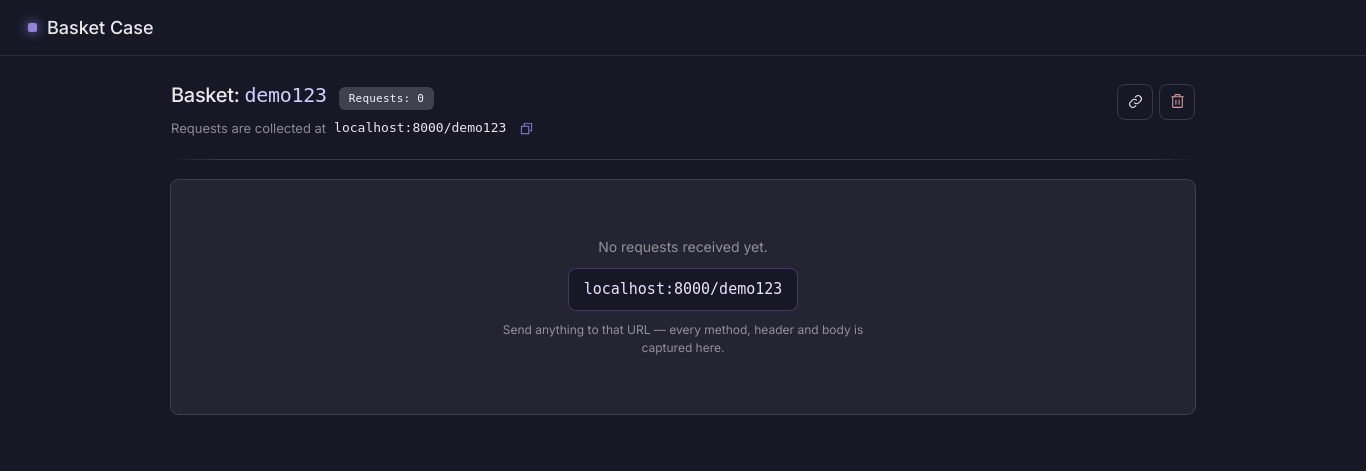
it: App basket ownership flows › keeps ownership data when deletion fails
The image size is (1366, 471).
Click the button named "Delete basket": [1177, 102] box [1159,84,1195,120]
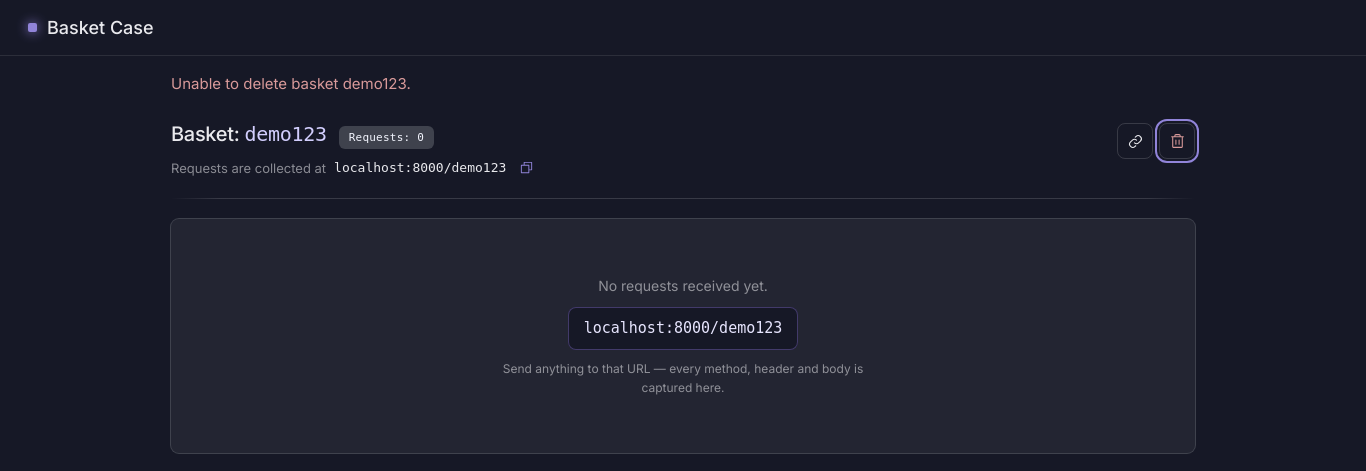
Expected: the message reads "Unable to delete basket demo123.", [171,74,411,93]
